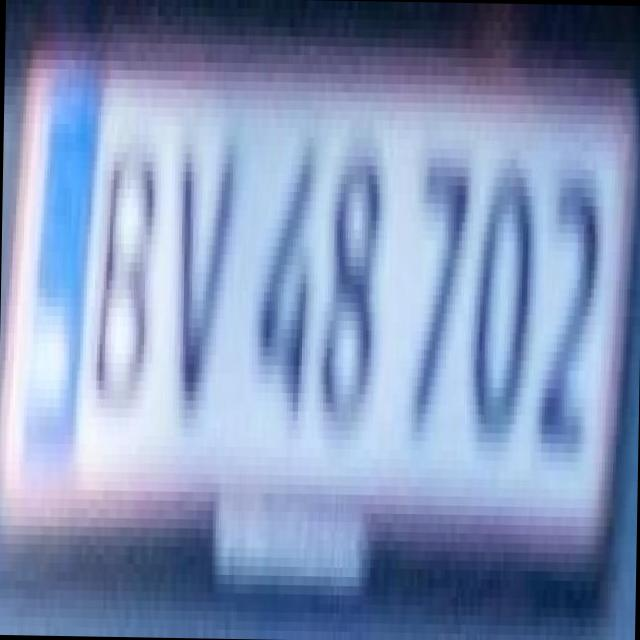0: (455, 130, 541, 442)
2: (524, 132, 608, 453)
4: (242, 100, 334, 430)
7: (386, 130, 477, 442)
8: (305, 119, 397, 440), (76, 114, 167, 408)
V: (154, 98, 250, 428)
